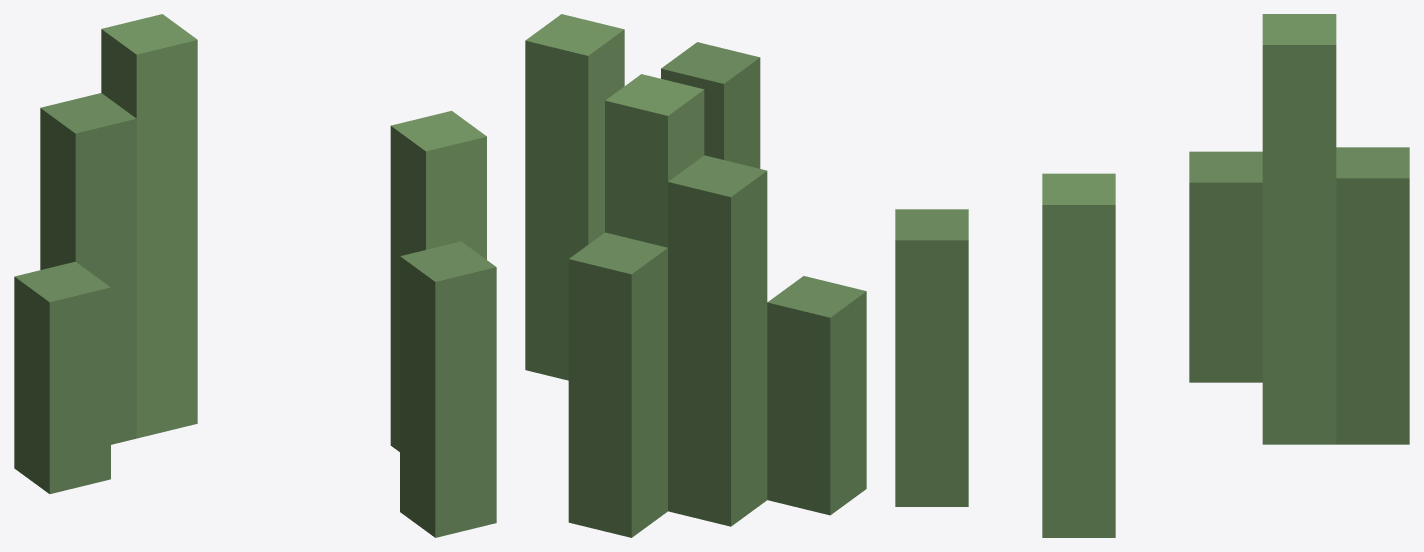
File: ortiga_01.glb
3 renders of one model, left to right at view 1: azimuth 30°, elevation 25°; view 2: azimuth 150°, elevation 25°; view 3: azimuth 270°, elevation 25°, orthographic. The views are drawn at different scales.
Parts seen in each view (by area): view 1: ortiga_01; view 2: ortiga_01; view 3: ortiga_01.
Part boxes in pixels (left/top/right/bottom): ortiga_01: left=14, top=14, right=496, bottom=537; ortiga_01: left=525, top=14, right=866, bottom=537; ortiga_01: left=895, top=14, right=1409, bottom=537.
Bounding box in the file's own units: 0.6 × 0.6 × 0.7.
